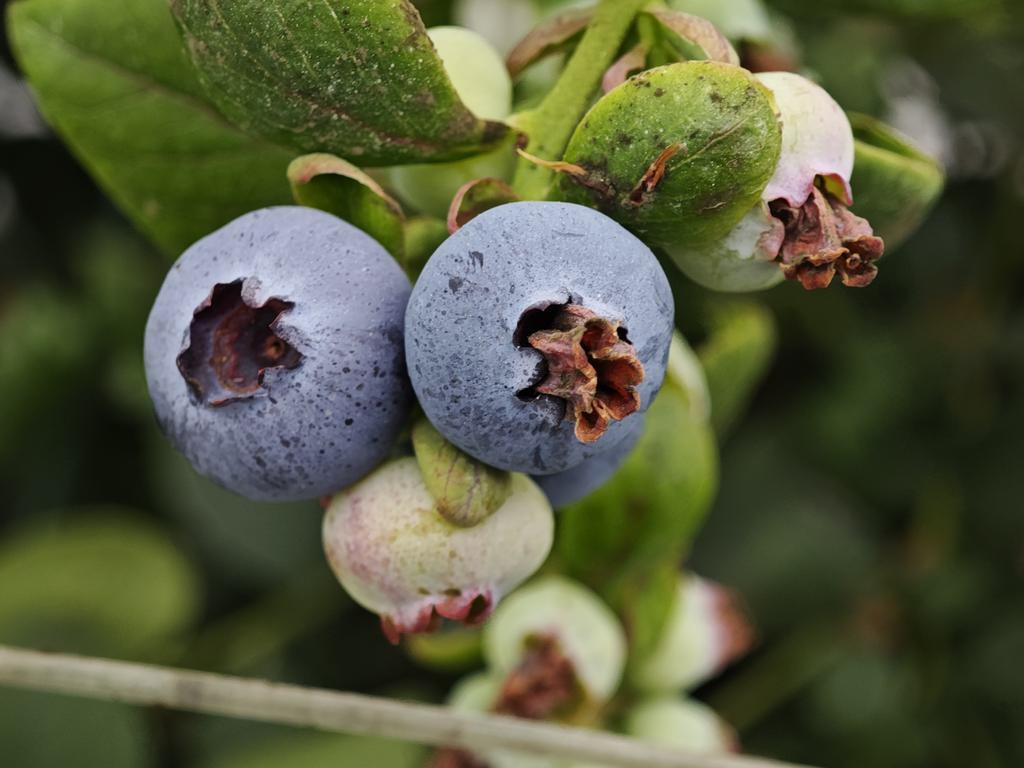RipeBlueBerry: (138, 198, 413, 509), (399, 197, 678, 477)
